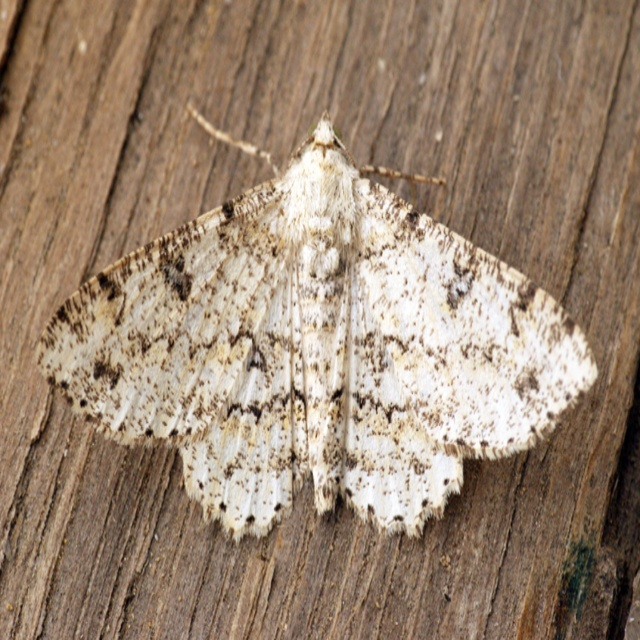Moths and butterflies: (34, 98, 606, 542)
